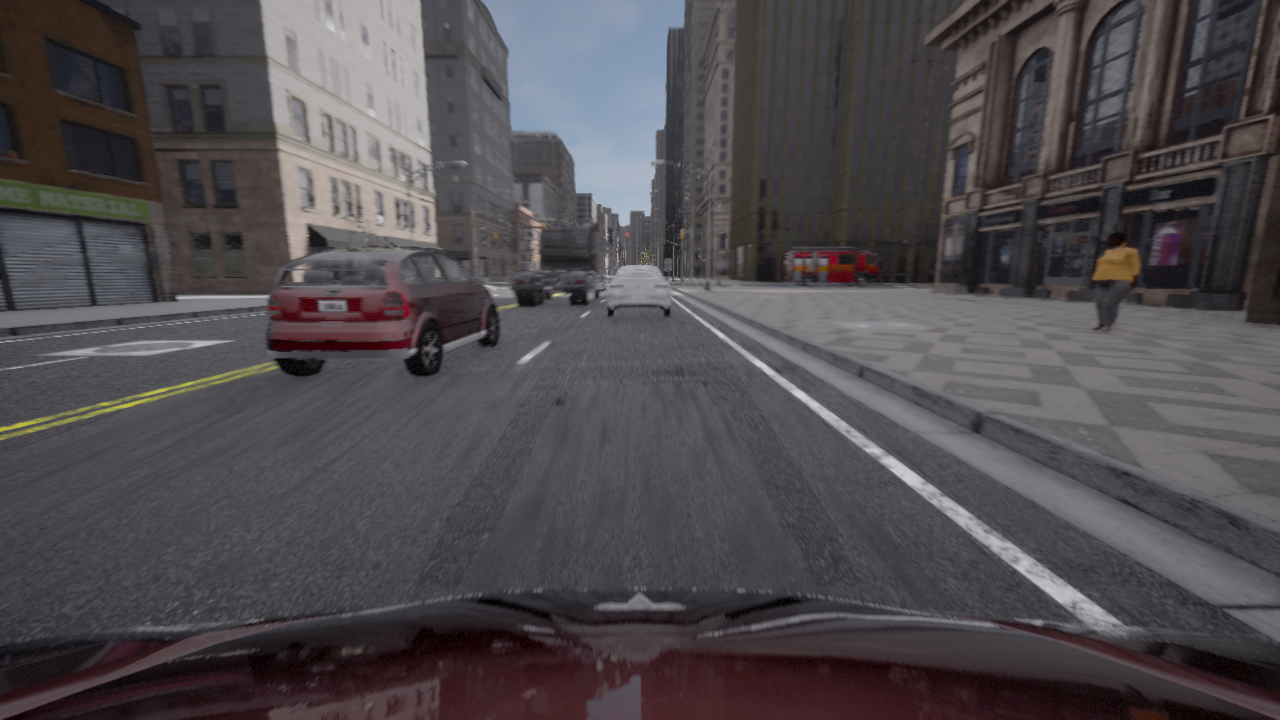cyclist: (0, 588, 1279, 719), (267, 247, 498, 376), (511, 224, 607, 305), (783, 246, 879, 285), (607, 265, 670, 316), (602, 274, 606, 291)
pedestrian: (1089, 232, 1139, 331)
